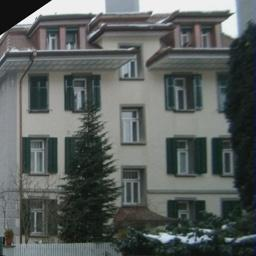building: (5, 2, 241, 242)
